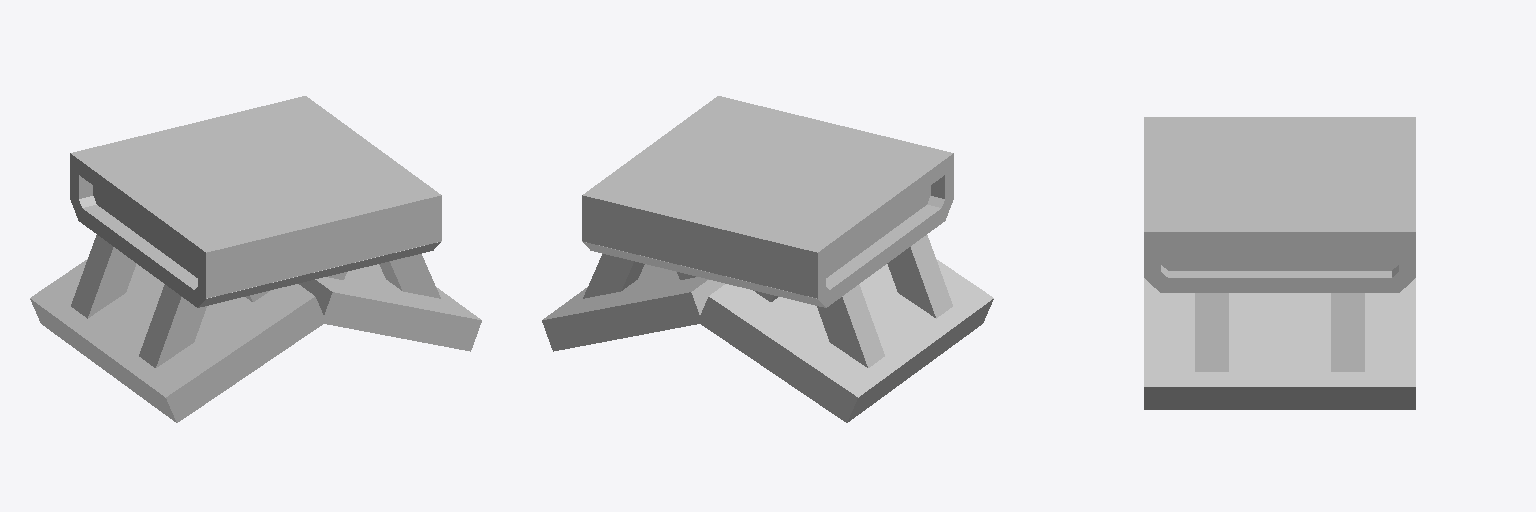
File: panel.obj
The picture shows the model from 3 angles: view 1: azimuth 30°, elevation 25°; view 2: azimuth 150°, elevation 25°; view 3: azimuth 270°, elevation 25°; orthographic projection.
Parts seen in each view (by area): view 1: cube; view 2: cube; view 3: cube.
Part boxes in pixels (left/top/right/bottom): cube: left=30, top=96, right=481, bottom=422; cube: left=542, top=96, right=993, bottom=422; cube: left=1144, top=117, right=1415, bottom=409.
Bounding box in the file's own units: 1.34 × 0.6633 × 1.